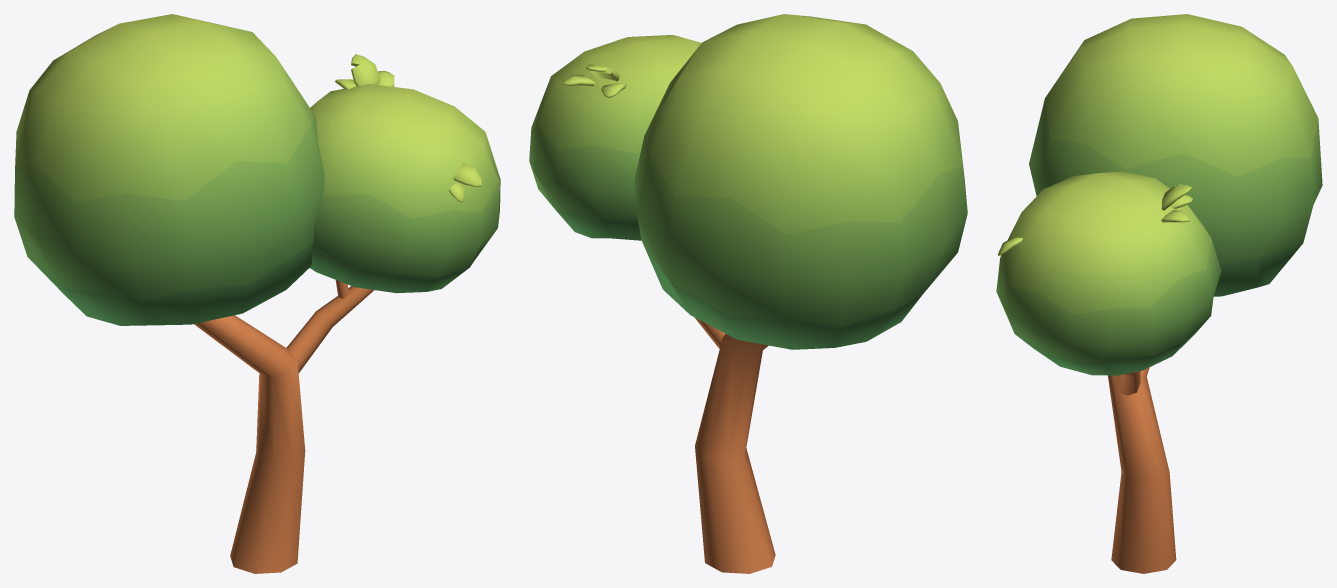
File: tree 01_toon_material_0.001.glb
The picture shows the model from 3 angles, left to right: view 1: azimuth 30°, elevation 25°; view 2: azimuth 150°, elevation 25°; view 3: azimuth 270°, elevation 25°; orthographic projection. The views are drawn at different scales.
Parts seen in each view (by area): view 1: tree 01_toon_material_0.001; view 2: tree 01_toon_material_0.001; view 3: tree 01_toon_material_0.001.
Boxes of the visible parts, left/top/right/bottom form: tree 01_toon_material_0.001: left=14, top=14, right=500, bottom=573; tree 01_toon_material_0.001: left=529, top=14, right=967, bottom=573; tree 01_toon_material_0.001: left=996, top=14, right=1322, bottom=573.
Bounding box in the file's own units: 3.42 × 4.16 × 2.49.
Materials: 1 (1 with a texture image).
